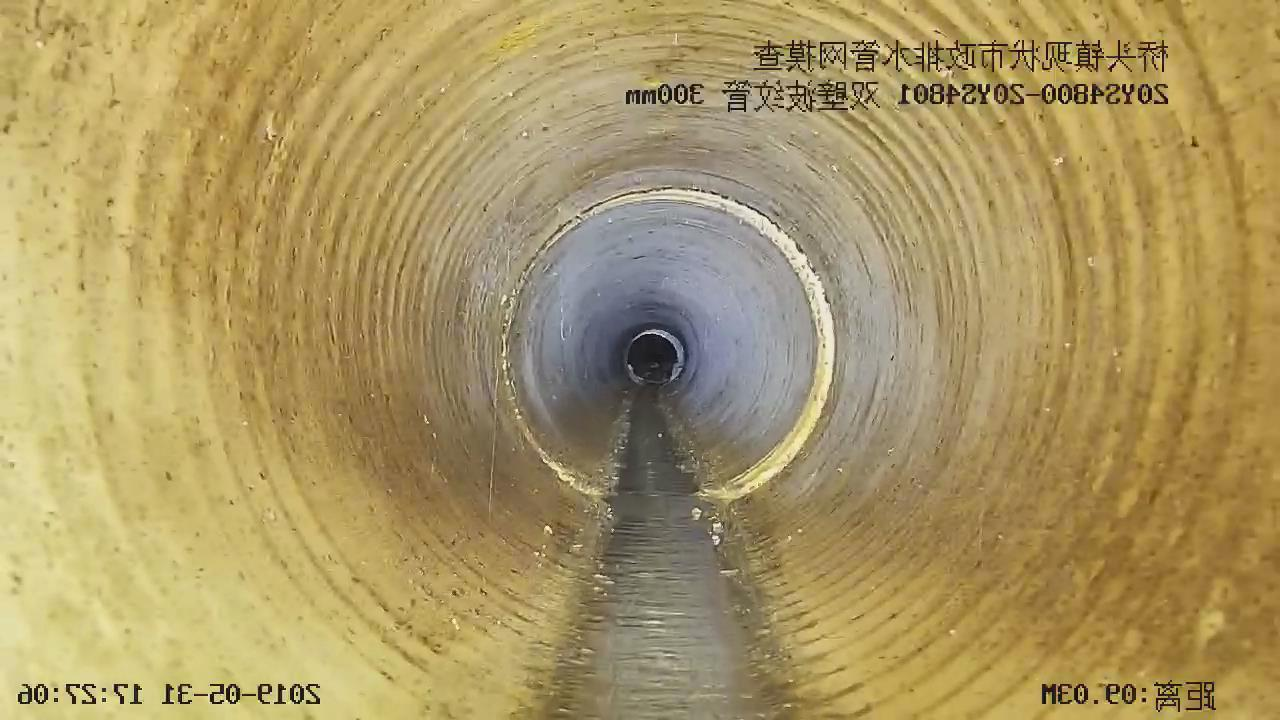CKTJ: (546, 187, 835, 503), (501, 323, 603, 500)
